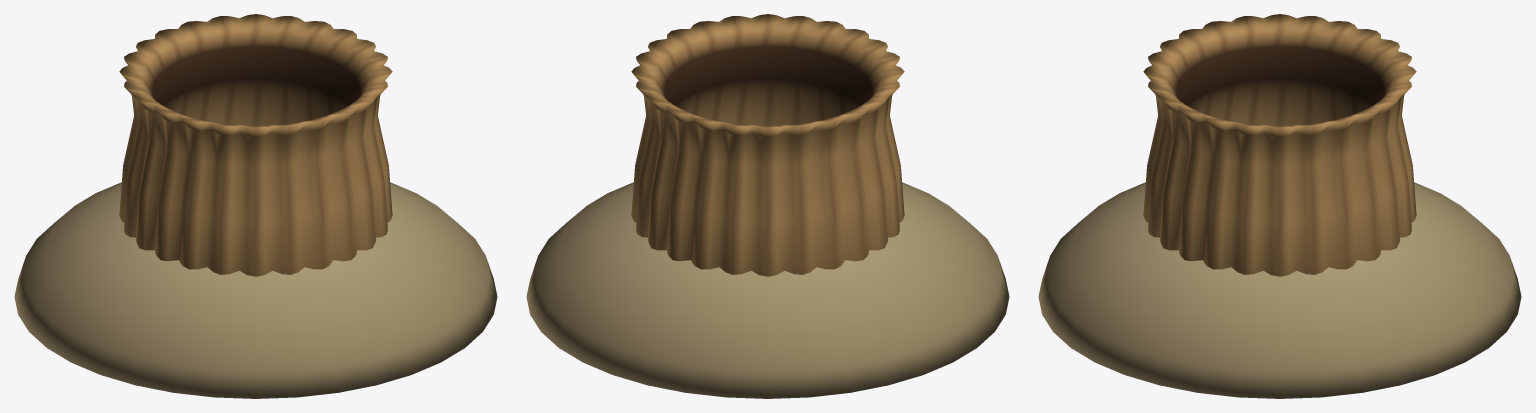
File: Ernietta.fbx
3 views of the same model, side by side, from view 1: azimuth 30°, elevation 25°; view 2: azimuth 150°, elevation 25°; view 3: azimuth 270°, elevation 25° (orthographic).
Visible parts, largest first — view 1: Ernietta; view 2: Ernietta; view 3: Ernietta.
Part boxes in pixels (left/top/right/bottom): Ernietta: left=14, top=14, right=497, bottom=398; Ernietta: left=526, top=14, right=1009, bottom=398; Ernietta: left=1038, top=14, right=1521, bottom=398.
Size of the model in its own units: 1.4 by 0.72 by 1.4.
